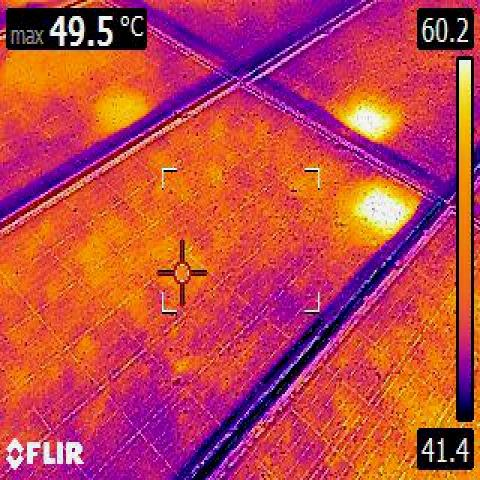fault: (364, 195, 398, 233), (354, 103, 381, 139)
